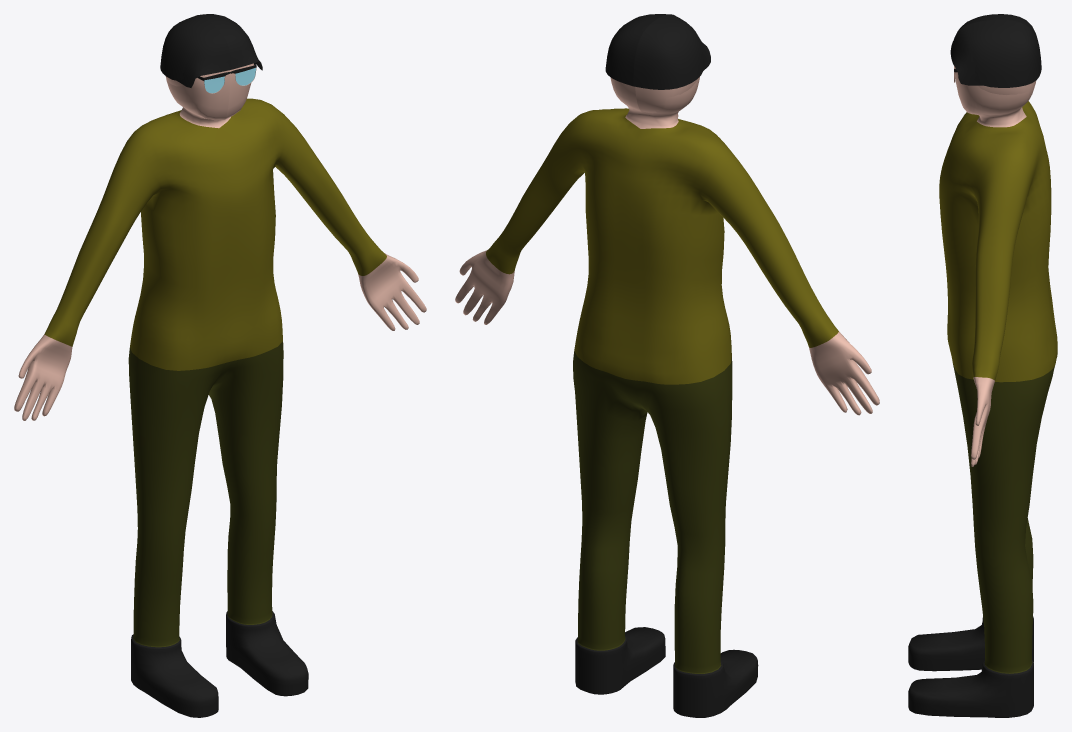
File: persona.glb
The picture shows the model from 3 angles, left to right: view 1: azimuth 30°, elevation 25°; view 2: azimuth 150°, elevation 25°; view 3: azimuth 270°, elevation 25°; orthographic projection. The views are drawn at different scales.
Parts seen in each view (by area): view 1: Body; view 2: Body; view 3: Body.
Part boxes in pixels (left/top/right/bottom): Body: left=14, top=14, right=426, bottom=717; Body: left=455, top=14, right=879, bottom=717; Body: left=908, top=14, right=1057, bottom=717.
Bounding box in the file's own units: 4.18 × 6.34 × 1.29.
